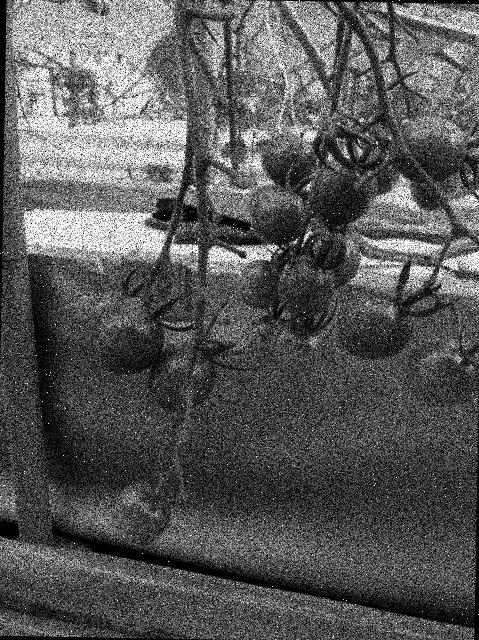l_fully_ripened: (92, 296, 166, 375), (309, 156, 378, 228), (259, 133, 316, 188)
l_green: (406, 336, 479, 409), (109, 482, 170, 548), (267, 319, 326, 380), (237, 260, 282, 310), (246, 314, 284, 362), (278, 364, 323, 391)
l_half_ripened: (335, 287, 415, 360), (387, 115, 468, 187), (145, 340, 218, 414), (277, 253, 336, 318), (300, 229, 361, 290), (249, 186, 308, 247), (84, 290, 133, 343), (359, 143, 400, 197), (410, 173, 458, 212)
